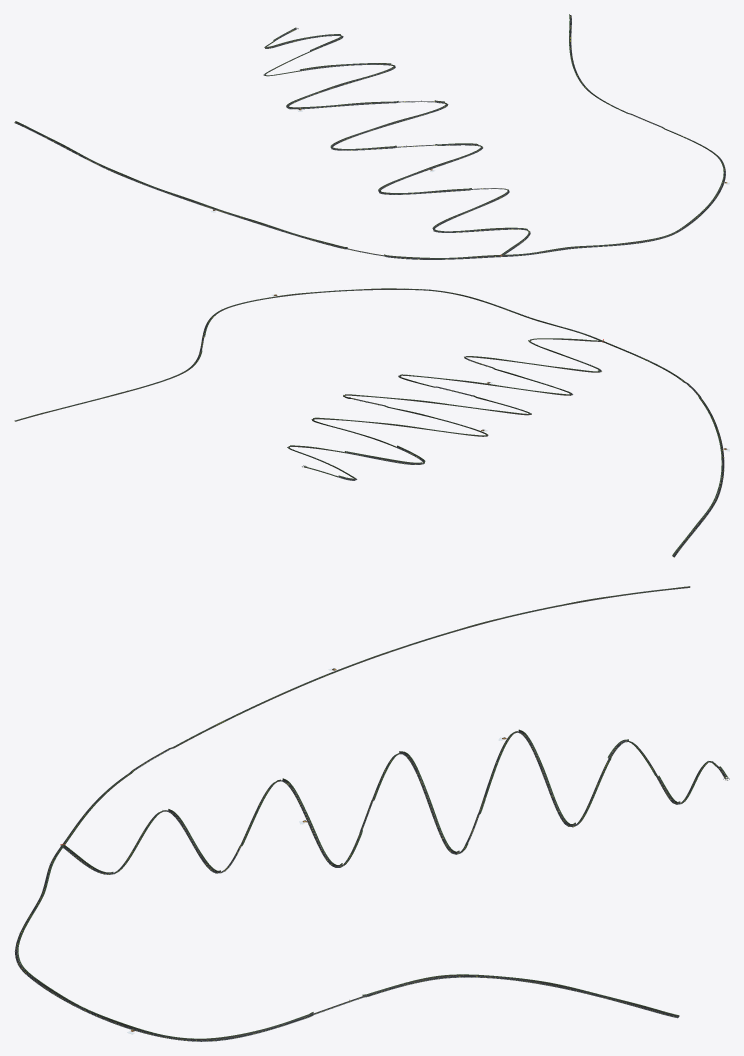
File: deo_jeep_dinh_radar_langbiang_va_deo_lac_duong.glb
3 renders of one model, top to bottom at view 1: azimuth 30°, elevation 25°; view 2: azimuth 150°, elevation 25°; view 3: azimuth 270°, elevation 25°, orthographic. The views are drawn at different scales.
Parts seen in each view (by area): view 1: Langbiang_Split_Granite_Taluy_And_Gateway_Base, Langbiang_Asphalt_Carriageway, Langbiang_Mountain_Basalt_Rock_Cliffs, Langbiang_Highland_Pine_Moss_Benches; view 2: Langbiang_Mountain_Basalt_Rock_Cliffs, Langbiang_Highland_Pine_Moss_Benches, Langbiang_Split_Granite_Taluy_And_Gateway_Base, Langbiang_Asphalt_Carriageway; view 3: Langbiang_Asphalt_Carriageway, Langbiang_Split_Granite_Taluy_And_Gateway_Base, Langbiang_Mountain_Basalt_Rock_Cliffs, Langbiang_Highland_Pine_Moss_Benches.
Part boxes in pixels (x1,y1,x2,y2): Langbiang_Split_Granite_Taluy_And_Gateway_Base: (15,18,725,259); Langbiang_Asphalt_Carriageway: (14,15,725,259); Langbiang_Mountain_Basalt_Rock_Cliffs: (15,15,723,258); Langbiang_Highland_Pine_Moss_Benches: (16,14,723,258); Langbiang_Mountain_Basalt_Rock_Cliffs: (15,288,722,555); Langbiang_Highland_Pine_Moss_Benches: (16,288,721,555); Langbiang_Split_Granite_Taluy_And_Gateway_Base: (15,289,724,557); Langbiang_Asphalt_Carriageway: (14,289,724,557); Langbiang_Asphalt_Carriageway: (15,589,726,1041); Langbiang_Split_Granite_Taluy_And_Gateway_Base: (15,587,729,1041); Langbiang_Mountain_Basalt_Rock_Cliffs: (17,586,727,1039); Langbiang_Highland_Pine_Moss_Benches: (18,586,728,1038).
Size of the model in its own units: 5073 by 563 by 3879.
